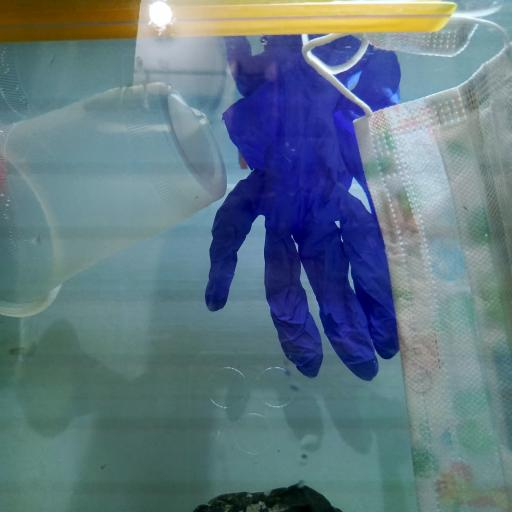glove: (203, 15, 402, 380)
mask: (299, 16, 512, 512)
plastic_cup: (0, 77, 228, 318)
plastic_straw: (0, 0, 456, 37)
